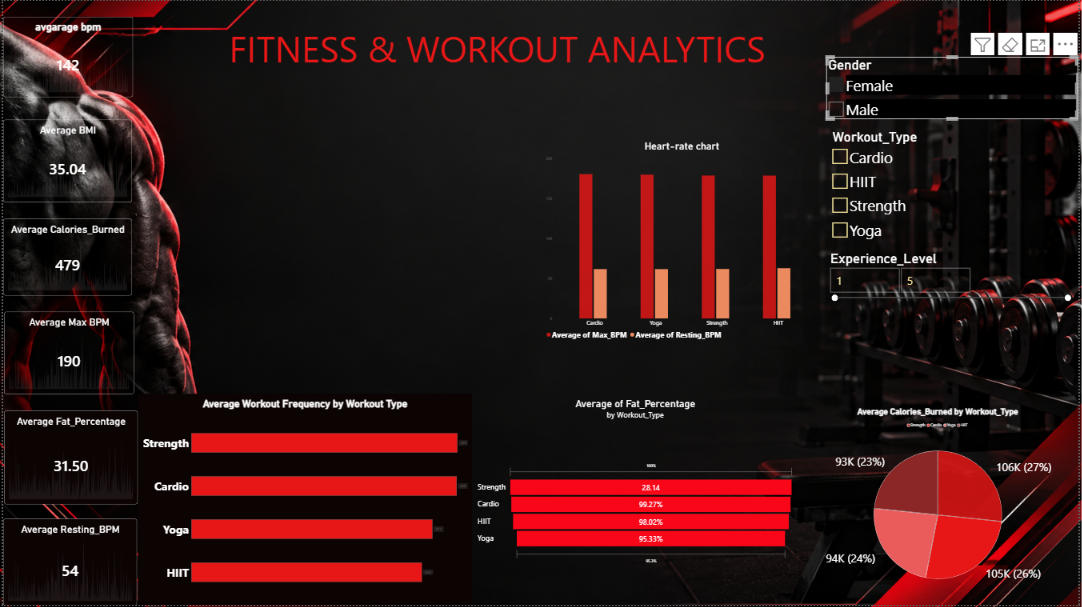

The page's visual inventory and layout, read from the dashboard file:
{"tool":"powerbi","page":{"name":"Page 1","canvas":[3840,2160],"ordinal":0},"visuals":[{"type":"kpi","title":"avgarage  bpm","fields":{"Indicator":["Sum(gym_members_exercise_tracking.Avg_BPM)"],"TrendLine":["gym_members_exercise_tracking.Weight (kg)"]},"box":[0,55.8,463.3,286.7],"z":0},{"type":"kpi","title":"Average BMI","fields":{"Indicator":["Sum(gym_members_exercise_tracking.BMI)"],"TrendLine":["gym_members_exercise_tracking.Weight (kg)"]},"box":[0,425.6,460,293.3],"z":1},{"type":"kpi","title":"Average Calories_Burned ","fields":{"Indicator":["Sum(gym_members_exercise_tracking.Calories_Burned)"],"TrendLine":["gym_members_exercise_tracking.Weight (kg)"]},"box":[0,777.9,460,273.3],"z":2},{"type":"kpi","title":"Average Max BPM","fields":{"Indicator":["Sum(gym_members_exercise_tracking.Max_BPM)"],"TrendLine":["gym_members_exercise_tracking.Weight (kg)"]},"box":[3.5,1109.3,463.3,293.3],"z":3},{"type":"kpi","title":"Average Fat_Percentage","fields":{"Indicator":["Sum(gym_members_exercise_tracking.Fat_Percentage)"],"TrendLine":["gym_members_exercise_tracking.Weight (kg)"]},"box":[3.5,1465.1,476.7,333.3],"z":4},{"type":"kpi","title":"Average Resting_BPM","fields":{"Indicator":["Sum(gym_members_exercise_tracking.Resting_BPM)"],"TrendLine":["gym_members_exercise_tracking.Weight (kg)"]},"box":[0,1848.8,477.9,310.5],"z":6},{"type":"barChart","title":"Average Workout Frequency by Workout Type","fields":{"Category":["gym_members_exercise_tracking.Workout_Type"],"Y":["Sum(gym_members_exercise_tracking.Workout_Frequency (days/week))"]},"box":[481.4,1402.3,1193,757],"z":10},{"type":"pieChart","title":" Average Calories_Burned by Workout_Type","fields":{"Category":["gym_members_exercise_tracking.Workout_Type"],"Y":["Sum(gym_members_exercise_tracking.Calories_Burned)"]},"box":[2836.1,1437.2,1004.7,722.1],"z":11},{"type":"funnel","fields":{"Category":["gym_members_exercise_tracking.Workout_Type"],"Y":["Avg(gym_members_exercise_tracking.Fat_Percentage)"]},"box":[1677.9,1402.3,1158.1,757],"z":12},{"type":"lineClusteredColumnComboChart","title":"Heart-rate chart","fields":{"Category":["gym_members_exercise_tracking.Workout_Type"],"Y":["Avg(gym_members_exercise_tracking.Max_BPM)","Avg(gym_members_exercise_tracking.Resting_BPM)"]},"box":[1920.6,483.5,1004.7,746.5],"z":14},{"type":"slicer","fields":{"Values":["gym_members_exercise_tracking.Gender"]},"box":[2940.7,198.8,900,226.7],"z":15},{"type":"slicer","fields":{"Values":["gym_members_exercise_tracking.Workout_Type"]},"box":[2954.7,457,872.1,457],"z":16},{"type":"slicer","fields":{"Values":["gym_members_exercise_tracking.Experience_Level"]},"box":[2947.7,893,872.1,460.5],"z":17},{"type":"textbox","box":[575.6,83.7,2379.1,258.1],"z":18}]}

Visuals, with their boxes in screenshot pixels (x1, y1, x2, y2), scaled from the page's 3840x2160 canvas onto the 1082x607 screenshot:
"avgarage  bpm" kpi: 0,16,131,96
"Average BMI" kpi: 0,120,130,202
"Average Calories_Burned " kpi: 0,219,130,295
"Average Max BPM" kpi: 1,312,132,394
"Average Fat_Percentage" kpi: 1,412,135,505
"Average Resting_BPM" kpi: 0,520,135,606
"Average Workout Frequency by Workout Type" barChart: 136,394,472,606
" Average Calories_Burned by Workout_Type" pieChart: 799,404,1081,606
funnel - gym_members_exercise_tracking.Workout_Type x Avg(gym_members_exercise_tracking.Fat_Percentage): 473,394,799,606
"Heart-rate chart" lineClusteredColumnComboChart: 541,136,824,346
slicer - gym_members_exercise_tracking.Gender: 829,56,1081,120
slicer - gym_members_exercise_tracking.Workout_Type: 833,128,1078,257
slicer - gym_members_exercise_tracking.Experience_Level: 831,251,1076,380
textbox: 162,24,833,96
